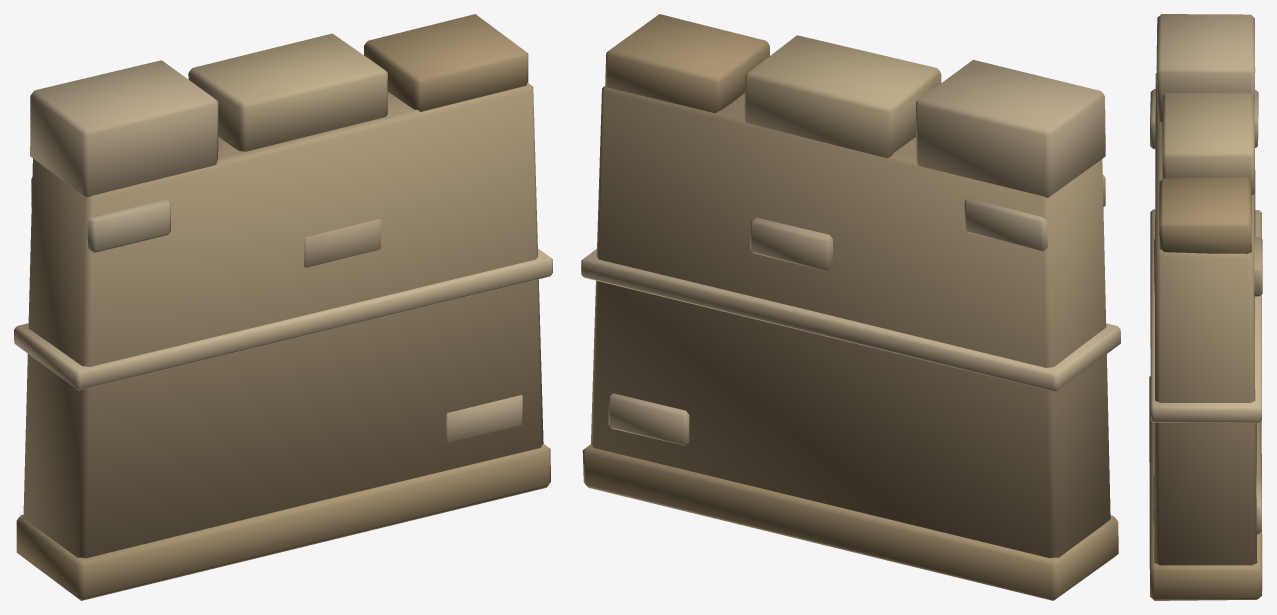
Rendered from ruins_wall_c.glb.
3 views of the same model, side by side, from view 1: azimuth 30°, elevation 25°; view 2: azimuth 150°, elevation 25°; view 3: azimuth 270°, elevation 25° (orthographic). The views are drawn at different scales.
Parts seen in each view (by area): view 1: ruins_wall_c; view 2: ruins_wall_c; view 3: ruins_wall_c.
Part boxes in pixels (x1=…): ruins_wall_c: x1=14, y1=14, x2=552, y2=600; ruins_wall_c: x1=581, y1=14, x2=1120, y2=600; ruins_wall_c: x1=1149, y1=14, x2=1262, y2=600.
Size of what is drawn, in the model's own units: 4.05 by 3.78 by 0.9792.
